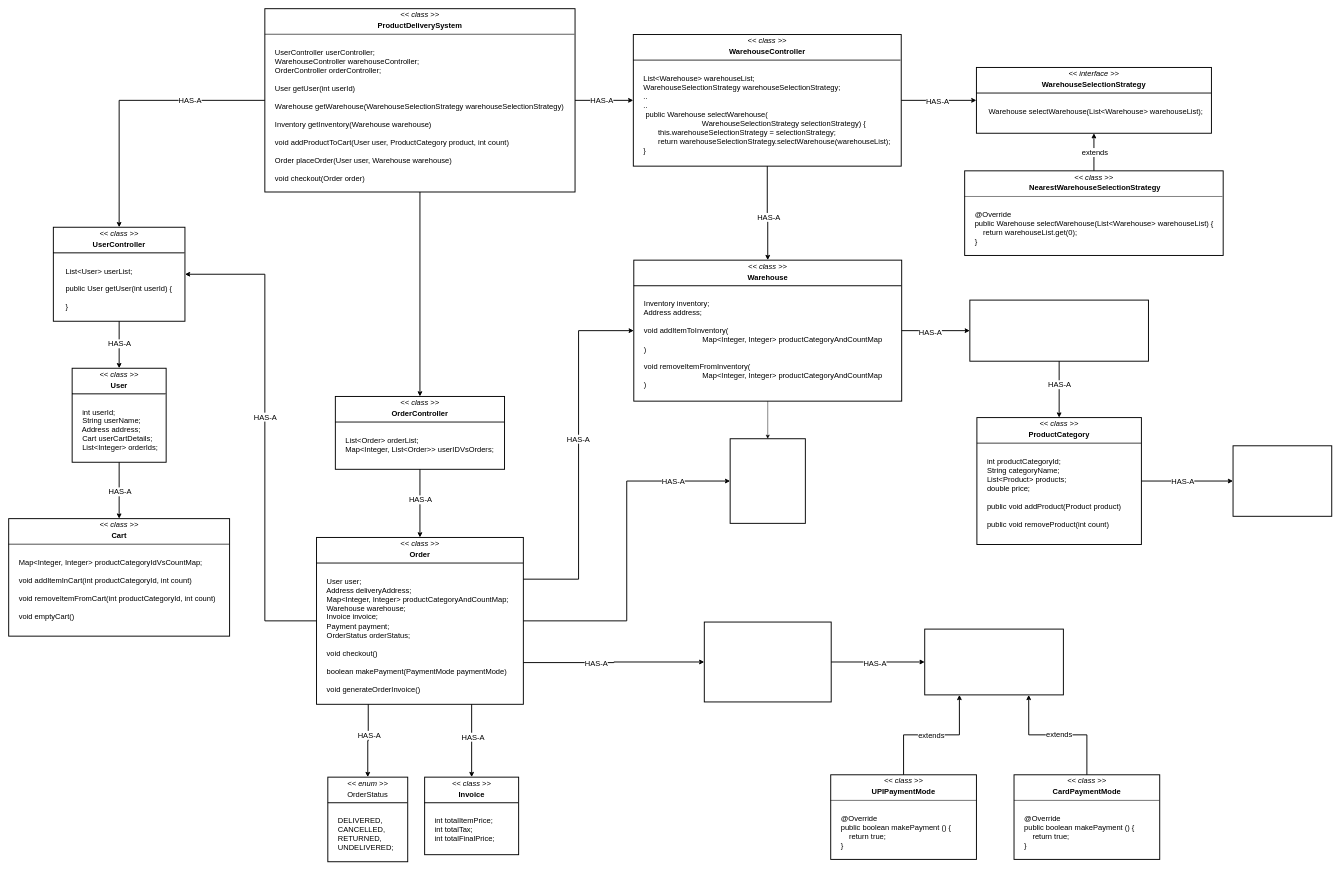
Some shapes in this 1340 by 870 pixel diagram are drawn without their labels. Each missing label, with the box of its shape:
<< class >> Address int addressId; int pinCode; String city; String state;: (729, 438, 806, 524)
<< class >> Inventory List<ProductCategory> productCategoryList;: (969, 299, 1149, 361)
<< class >> Payment PaymentMode paymentMode; boolean makePayment(): (704, 621, 831, 702)
<< class >> Product int productId; String productName;: (1232, 445, 1332, 517)
<< interface >> PaymentMode public boolean makePayment() ;: (924, 628, 1064, 695)
